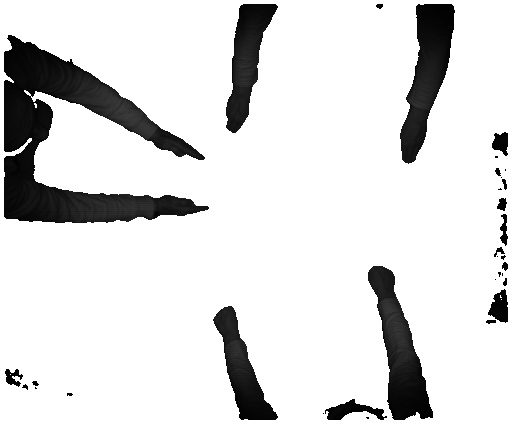fist: (208, 304, 245, 337), (368, 264, 399, 298)
hand: (400, 118, 431, 167), (224, 94, 255, 135)
spine: (157, 192, 215, 223), (155, 128, 207, 159)
